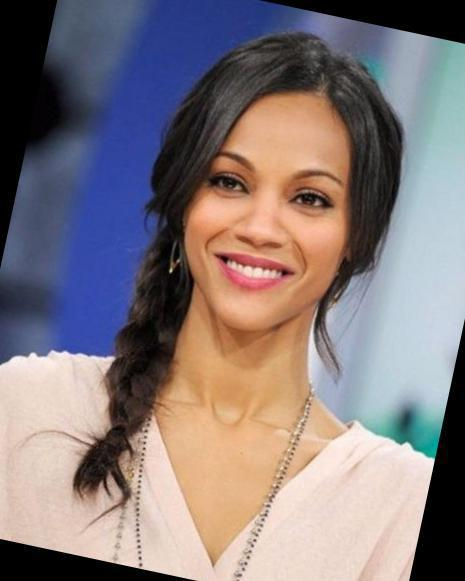Sober: (200, 122, 344, 315)
